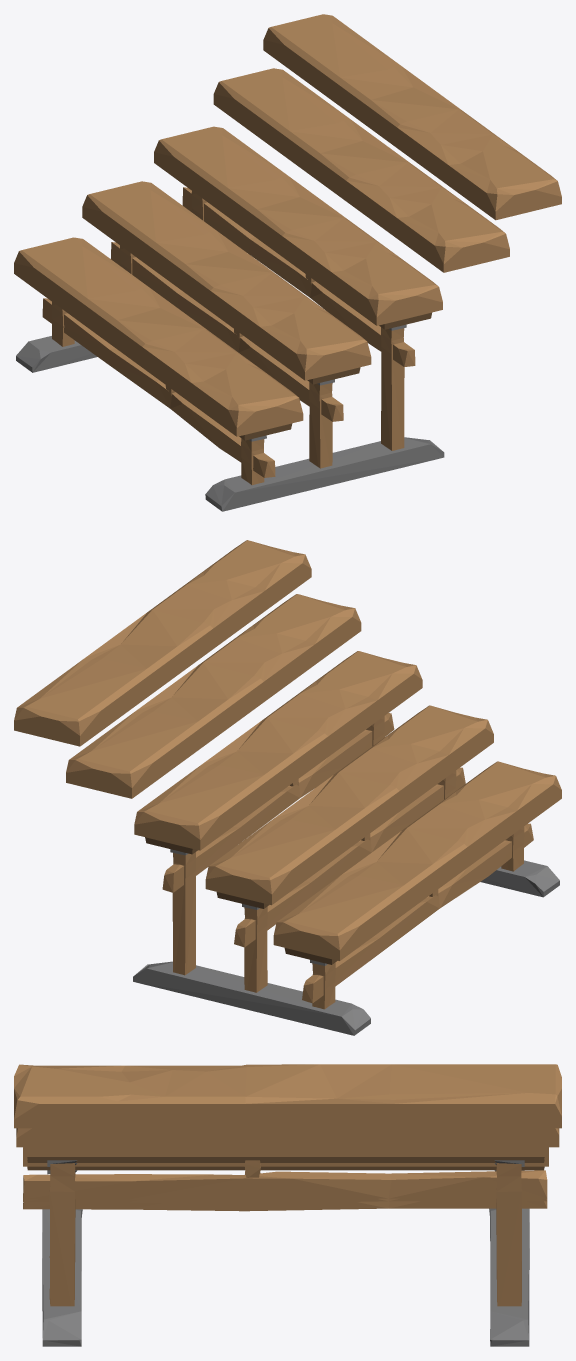
Rendered from SFM_FVC_Stand.fbx.
3 views of the same model, one above another, from view 1: azimuth 30°, elevation 25°; view 2: azimuth 150°, elevation 25°; view 3: azimuth 270°, elevation 25° (orthographic). The views are drawn at different scales.
Visible parts, largest first — view 1: SFM_FVC_Stand; view 2: SFM_FVC_Stand; view 3: SFM_FVC_Stand.
Boxes of the visible parts, box(x1,y1,x2,y2) form: SFM_FVC_Stand: box(14, 14, 561, 511); SFM_FVC_Stand: box(14, 540, 561, 1035); SFM_FVC_Stand: box(14, 1064, 561, 1346).
Bounding box in the file's own units: 182 × 138 × 223.
